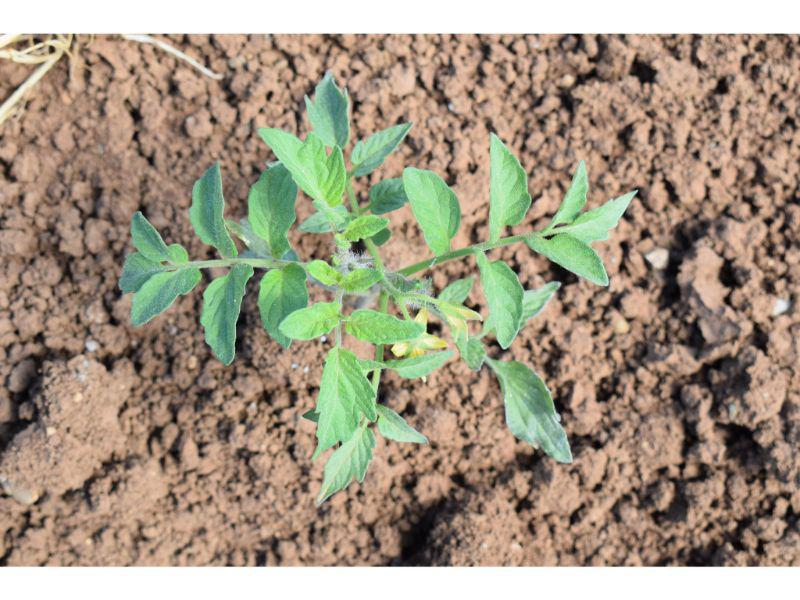tomato: (123, 73, 639, 502)
